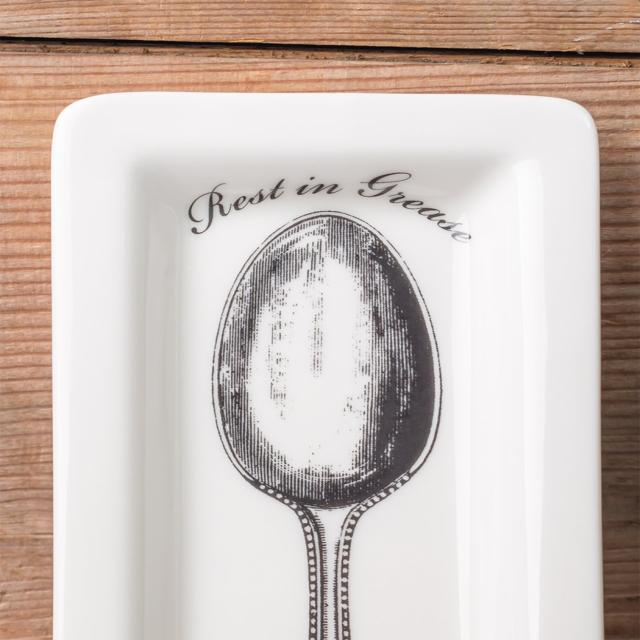spoon: (193, 199, 468, 640)
